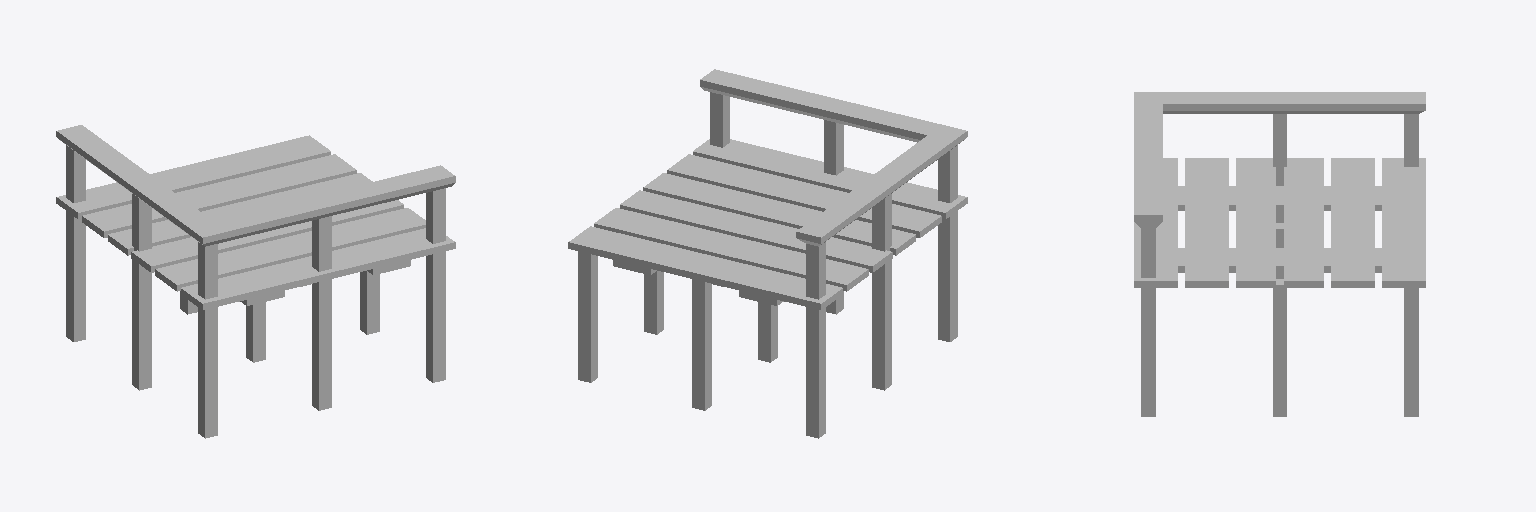
Rendered from scaffold_medium_cornerRight.obj.
3 views of the same model, side by side, from view 1: azimuth 30°, elevation 25°; view 2: azimuth 150°, elevation 25°; view 3: azimuth 270°, elevation 25° (orthographic).
Parts seen in each view (by area): view 1: scaffold_medium_cornerRight_Cube.2482; view 2: scaffold_medium_cornerRight_Cube.2482; view 3: scaffold_medium_cornerRight_Cube.2482.
Part boxes in pixels (x1,y1,x2,y2): scaffold_medium_cornerRight_Cube.2482: (56, 125, 455, 438); scaffold_medium_cornerRight_Cube.2482: (568, 69, 967, 438); scaffold_medium_cornerRight_Cube.2482: (1134, 92, 1425, 416).
Size of the model in its own units: 4 by 3.1 by 4.